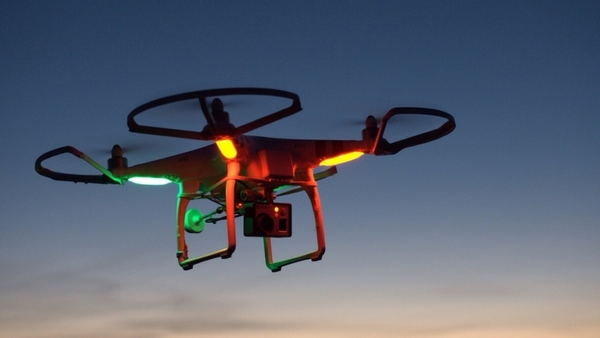drone: (32, 85, 458, 274)
